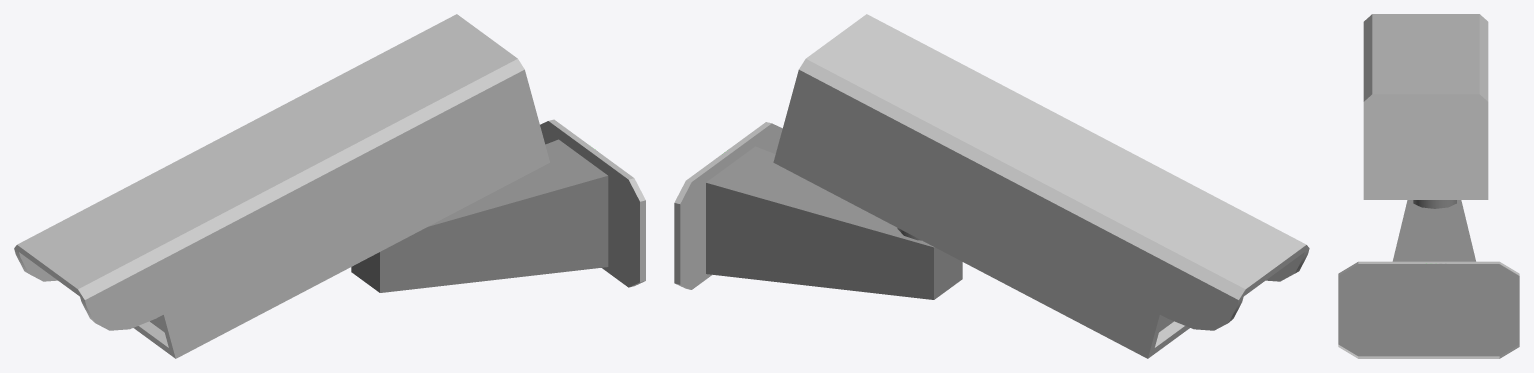
File: MD_security cam.FBX
3 views of the same model, side by side, from view 1: azimuth 30°, elevation 25°; view 2: azimuth 150°, elevation 25°; view 3: azimuth 270°, elevation 25° (orthographic). The views are drawn at different scales.
Parts seen in each view (by area): view 1: MD_Camera, MD_Camera Stand; view 2: MD_Camera, MD_Camera Stand; view 3: MD_Camera, MD_Camera Stand.
Part boxes in pixels (x1,y1,x2,y2): MD_Camera: (14, 14, 549, 358); MD_Camera Stand: (351, 119, 645, 292); MD_Camera: (773, 14, 1309, 358); MD_Camera Stand: (674, 122, 962, 299); MD_Camera: (1363, 14, 1488, 199); MD_Camera Stand: (1338, 200, 1519, 358).
Bounding box in the file's own units: 31.43 × 13.59 × 10.24.
